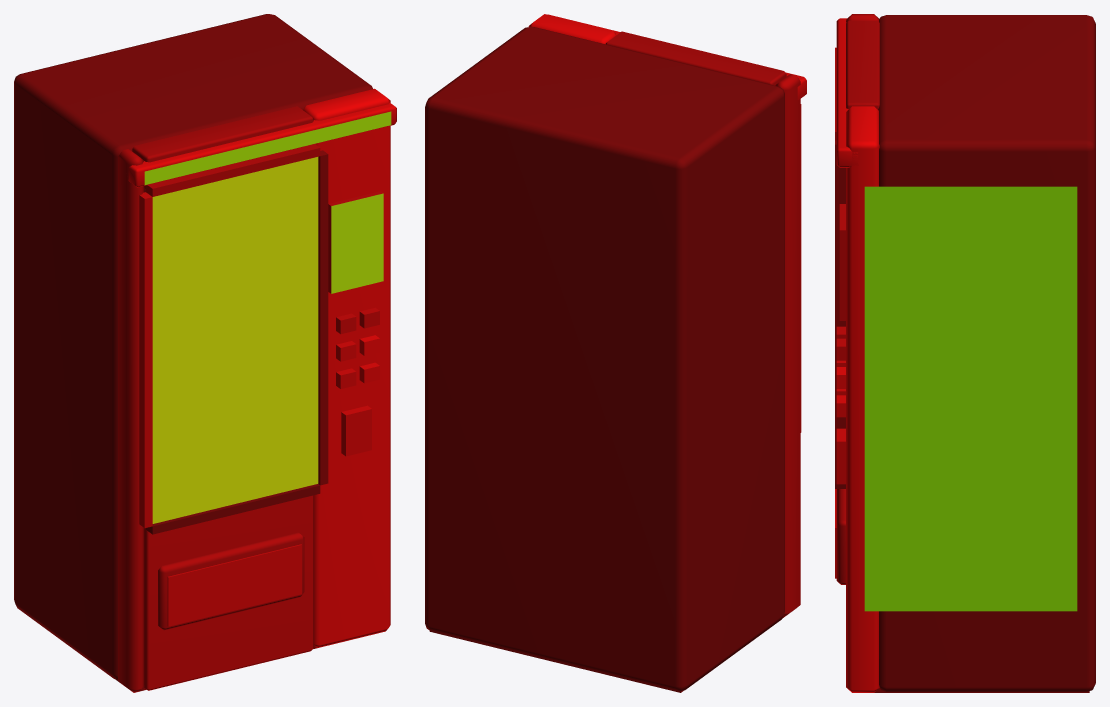
File: vending_a.glb
3 views of the same model, side by side, from view 1: azimuth 30°, elevation 25°; view 2: azimuth 150°, elevation 25°; view 3: azimuth 270°, elevation 25° (orthographic). The views are drawn at different scales.
Parts seen in each view (by area): view 1: vending_a; view 2: vending_a; view 3: vending_a.
Part boxes in pixels (box(x1,y1,x2,y2)): vending_a: box(14, 14, 396, 692); vending_a: box(425, 14, 806, 692); vending_a: box(835, 14, 1095, 692).
Size of the model in its own units: 1 by 1.95 by 0.835.
